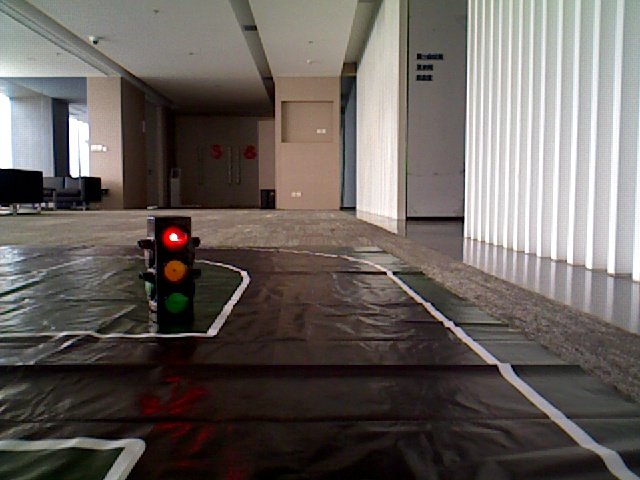red: (156, 218, 192, 318)
